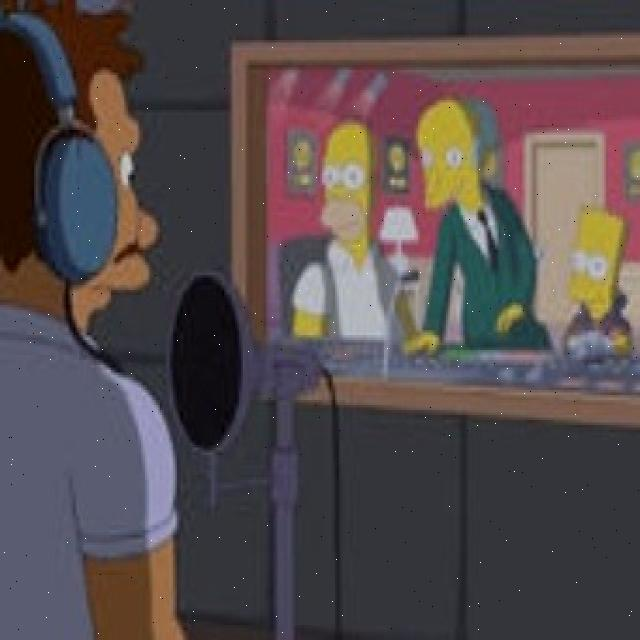Bart Simpson: (566, 204, 630, 326)
Charles Montgomery Burns: (422, 88, 500, 218)
Homer Simpson: (316, 121, 380, 259)
